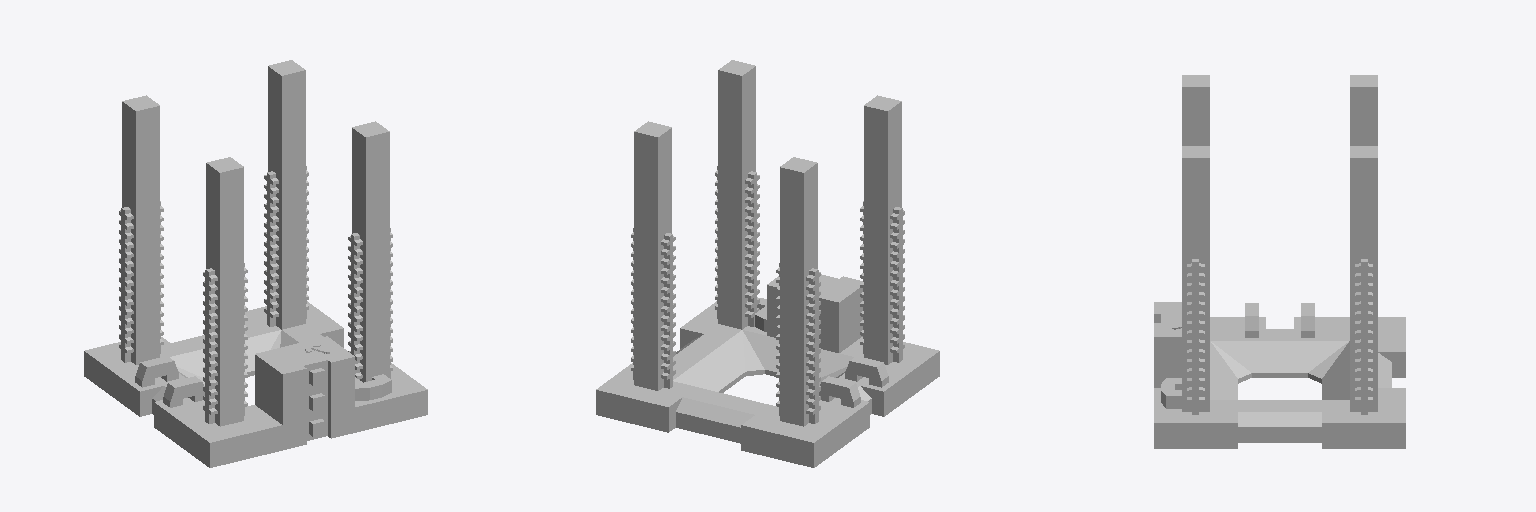
File: coredrill_mirrored.obj
3 views of the same model, side by side, from view 1: azimuth 30°, elevation 25°; view 2: azimuth 150°, elevation 25°; view 3: azimuth 270°, elevation 25° (orthographic).
Visible parts, largest first — view 1: concrete_base; view 2: concrete_base; view 3: concrete_base.
Boxes of the visible parts, box(x1,y1,x2,y2) form: concrete_base: box(84, 60, 427, 467); concrete_base: box(596, 60, 939, 467); concrete_base: box(1154, 75, 1405, 448).
Bounding box in the file's own units: 9 × 11 × 9.